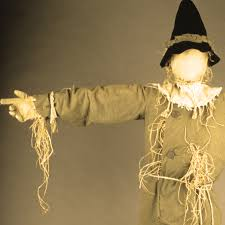person-like: (2, 3, 225, 219)
